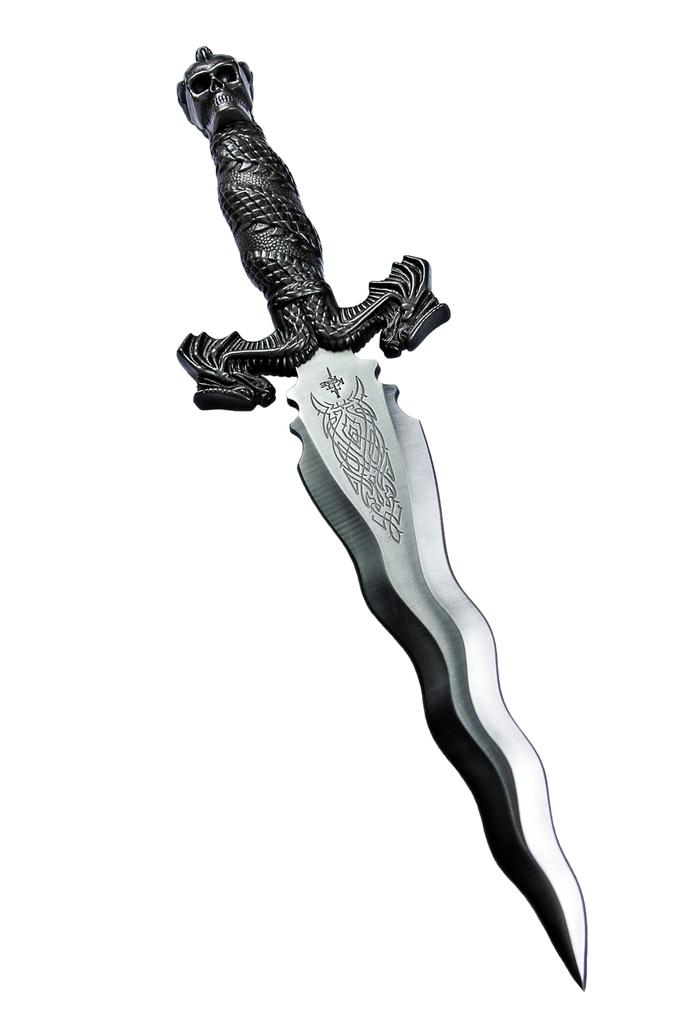Sword: (175, 44, 584, 989)
